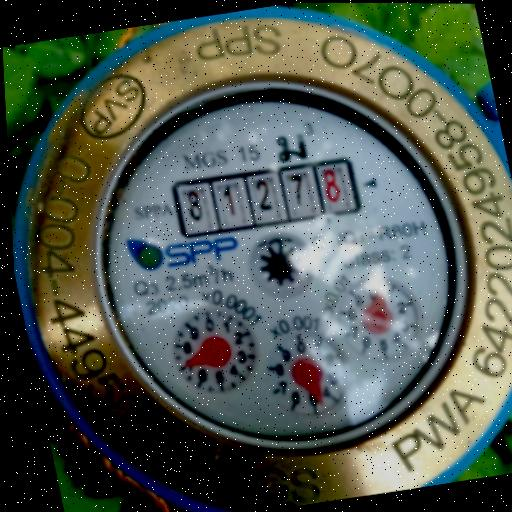1: (216, 183, 244, 227)
2: (251, 178, 279, 223)
7: (287, 174, 314, 216)
8: (182, 188, 211, 231), (321, 167, 350, 210)
border_water_meter_number: (168, 153, 365, 241)
